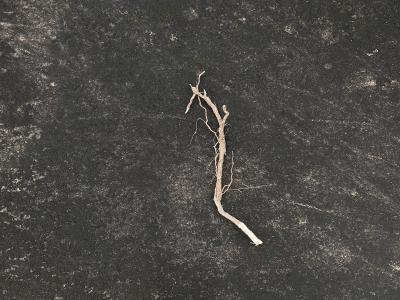Root: (185, 71, 262, 245)
